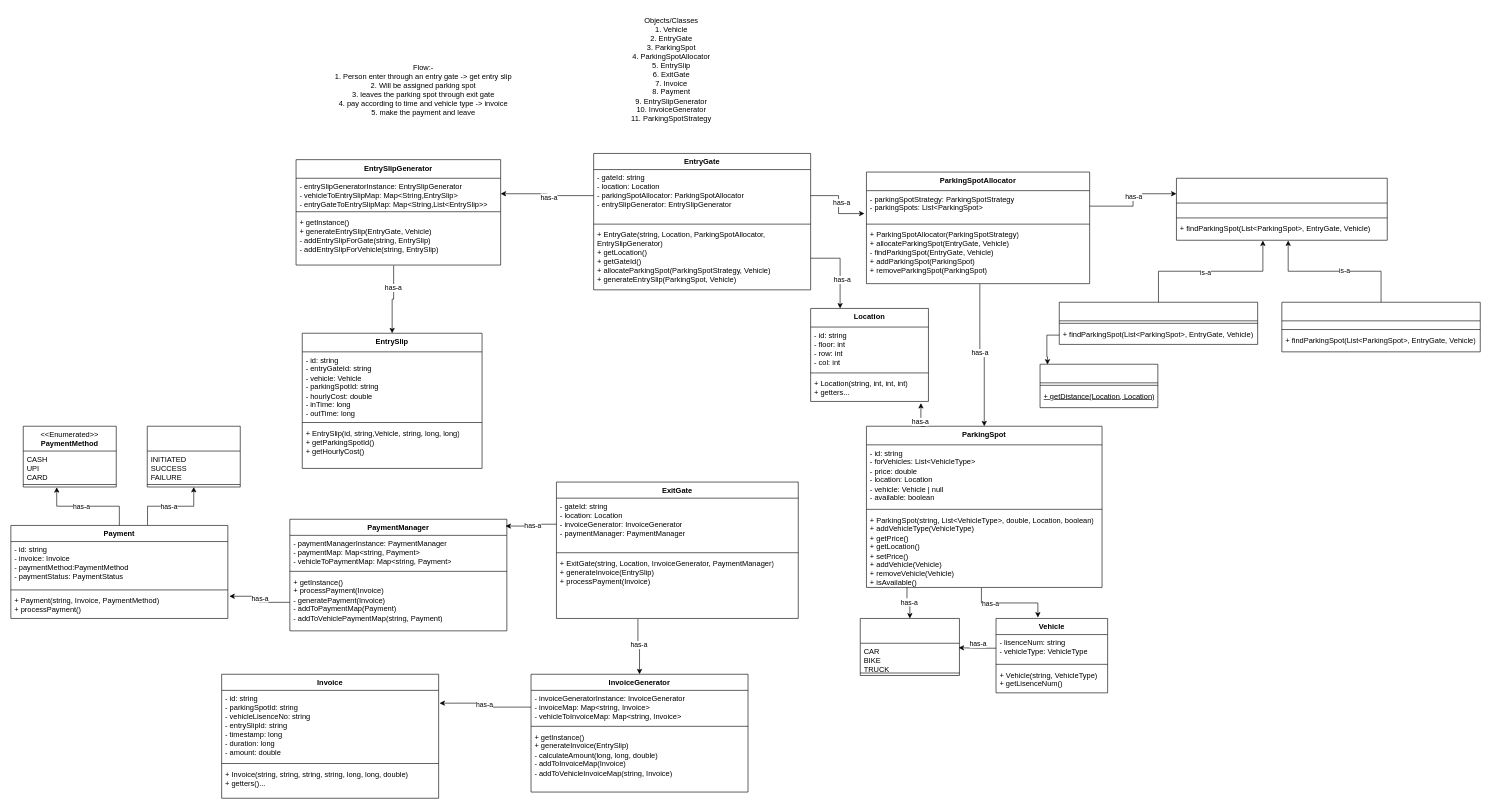
The diagram is 1491 pixels wide and 810 high, and some of its shapes have lost their labels. Here are the shapes that lost their labels. From the top down, the box of each, then its label:
(1176, 178, 1387, 240): <<Interface>> ParkingSpotStrategy
(1059, 302, 1258, 344): NearestToEntryParkingSpotStrategy
(1281, 302, 1480, 352): CheapestParkingSpotStrategy
(1039, 364, 1158, 408): Utils
(147, 426, 240, 487): <<Enumerated>> PaymentStatus
(860, 618, 959, 675): <<Enumeration>> VehicleType
